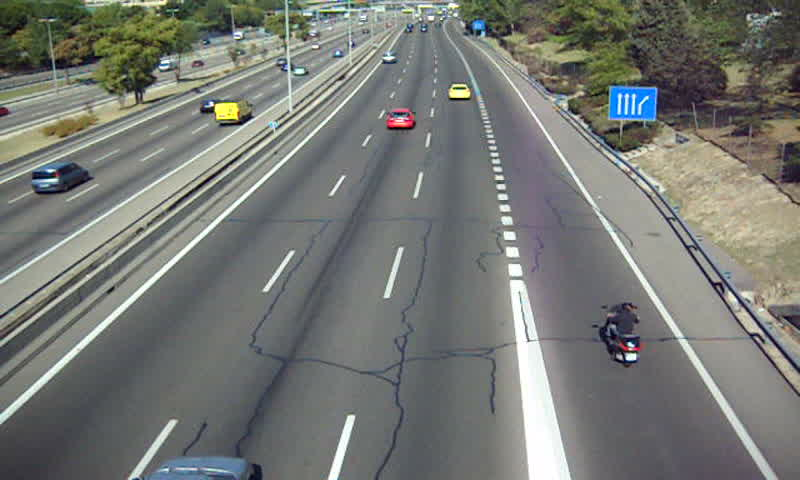car: (384, 106, 417, 130), (447, 84, 471, 101), (381, 53, 396, 64)
motorcycle: (603, 300, 641, 365)
